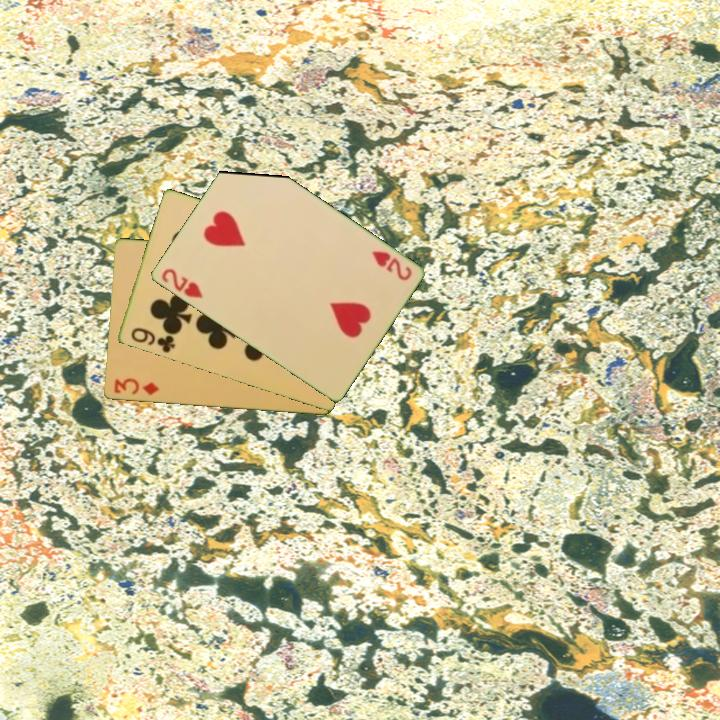2h: (157, 265, 205, 301), (368, 247, 414, 284)
3d: (110, 375, 162, 398)
9c: (127, 324, 178, 356)
